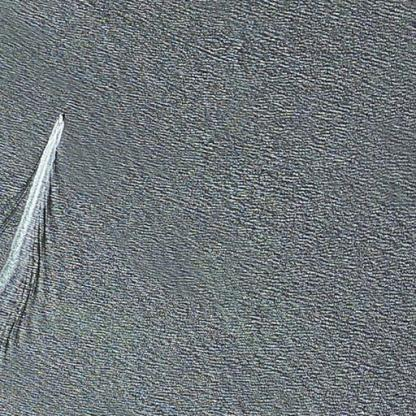ship: (53, 110, 66, 126)
